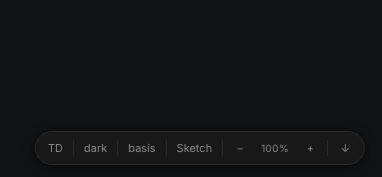
Scenario: PreviewBar › pressing Escape closes open dropdown
Click the button "TD" at (55,148), box [42,135,69,161]
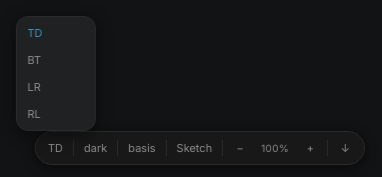
expect the button "BT" is shown: met, box [19,47,91,73]
Press Escape
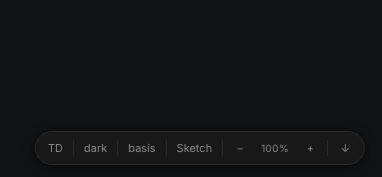
expect the button "BT" is gone: met
